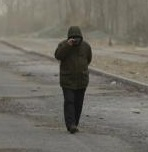person: (55, 24, 92, 135)
